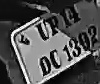0: (78, 31, 91, 52)
1: (62, 43, 72, 62), (60, 11, 71, 27)
2: (87, 25, 99, 45)
3: (69, 36, 82, 57)
4: (68, 6, 82, 23)
C: (49, 50, 63, 70)
D: (36, 56, 52, 76)
P: (47, 15, 60, 36)
U: (34, 20, 50, 41)
